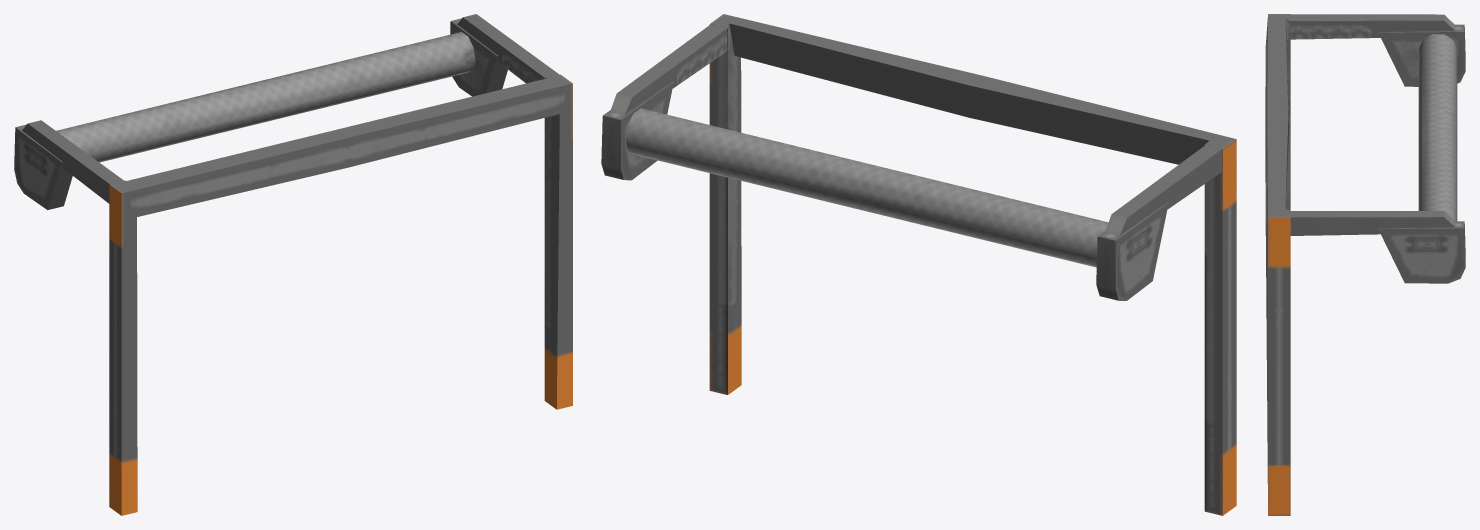
The model's file is Pfb_Soda_RollingShutterDoor.fbx.
3 views of the same model, side by side, from view 1: azimuth 30°, elevation 25°; view 2: azimuth 150°, elevation 25°; view 3: azimuth 270°, elevation 25° (orthographic). The views are drawn at different scales.
Visible parts, largest first — view 1: MAT_RollingShutterDoor_01; view 2: MAT_RollingShutterDoor_01; view 3: MAT_RollingShutterDoor_01.
Boxes of the visible parts, left/top/right/bottom form: MAT_RollingShutterDoor_01: left=14, top=14, right=572, bottom=515; MAT_RollingShutterDoor_01: left=601, top=14, right=1236, bottom=515; MAT_RollingShutterDoor_01: left=1265, top=14, right=1465, bottom=515.
Size of the model in its own units: 3.87 by 2.66 by 1.61.
1 material, 1 textured.
